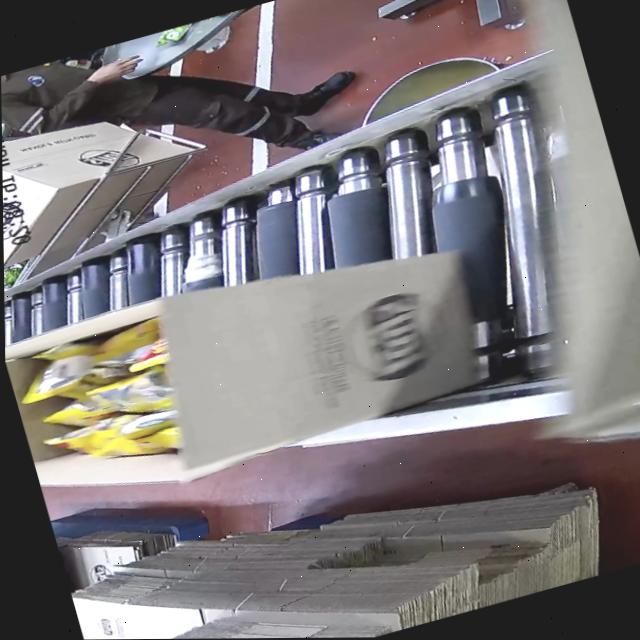SALTED: (5, 312, 201, 490)
